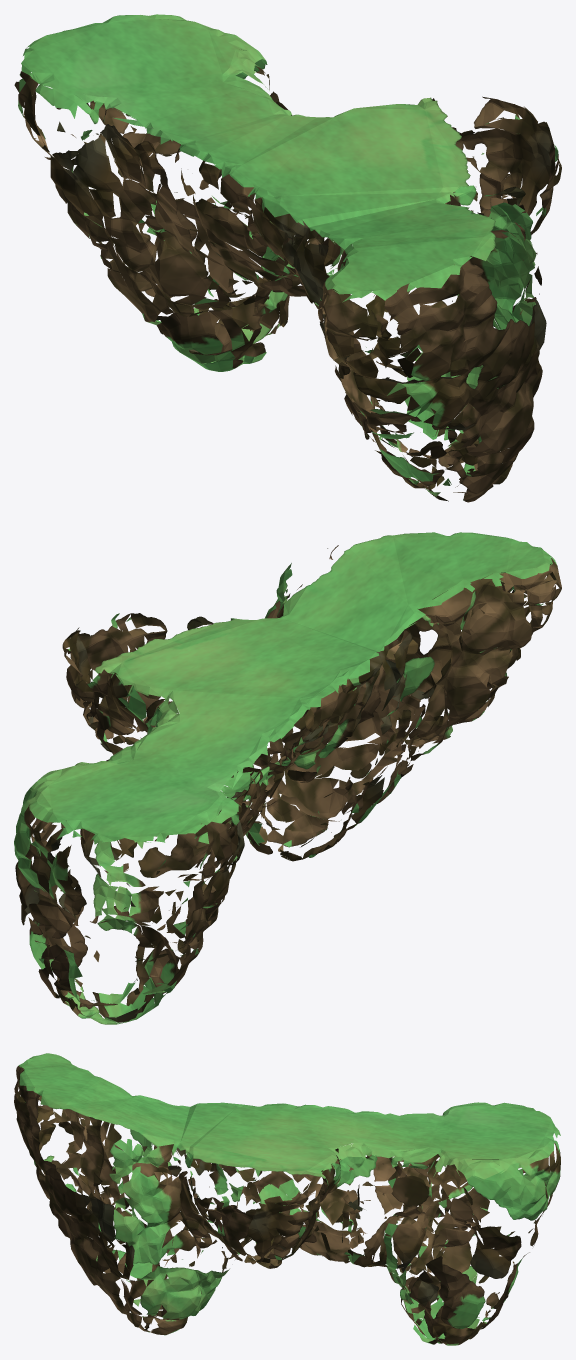
Rendered from FloatingIsland5.1.fbx.
3 views of the same model, one above another, from view 1: azimuth 30°, elevation 25°; view 2: azimuth 150°, elevation 25°; view 3: azimuth 270°, elevation 25° (orthographic). The views are drawn at different scales.
Visible parts, largest first — view 1: Island5Merged.002; view 2: Island5Merged.002; view 3: Island5Merged.002.
Part boxes in pixels (x1,y1,x2,y2): Island5Merged.002: (14,14,561,502); Island5Merged.002: (14,532,561,1024); Island5Merged.002: (14,1053,560,1345).
Size of the model in its own units: 1996 by 1712 by 3720.
Materials: 1 (1 with a texture image).
